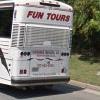Bus: (2, 1, 76, 99)
